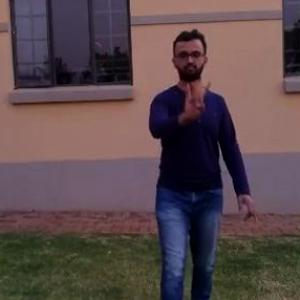takeoff-hand: (176, 78, 208, 131)
